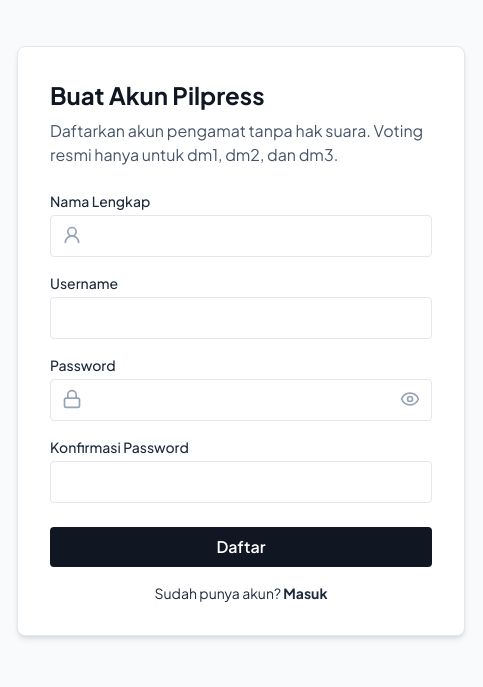
RegisterPage › menampilkan pesan error jika username sudah dipakai
Type "Pemilih Satu" into the field labelled "Nama Lengkap".
click(241, 236); type("Pemilih Satu")  # box [50,215,432,257]
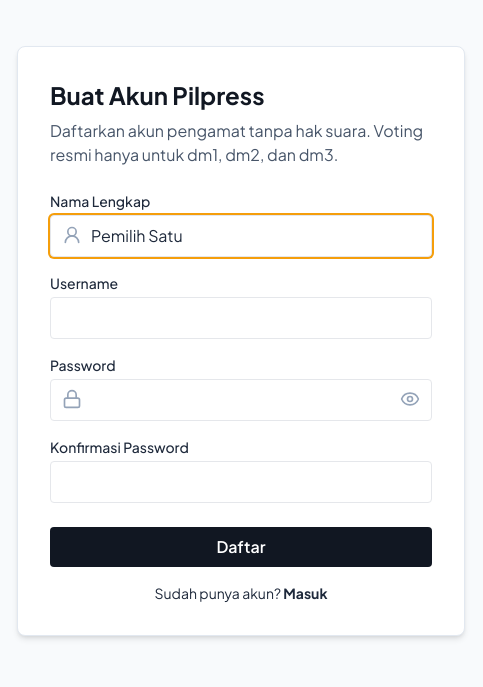
Type "dm1" into the field labelled "Username".
click(241, 318); type("dm1")  # box [50,297,432,339]
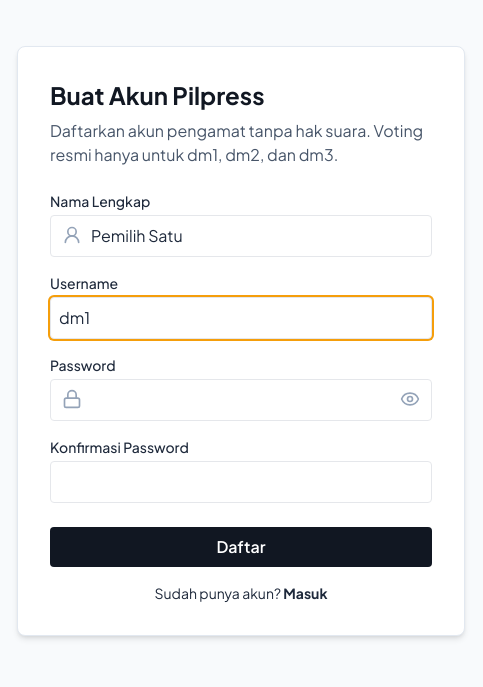
Type "rahasia123" into the password field labelled "Password".
click(241, 400); type("rahasia123")  # box [50,379,432,421]
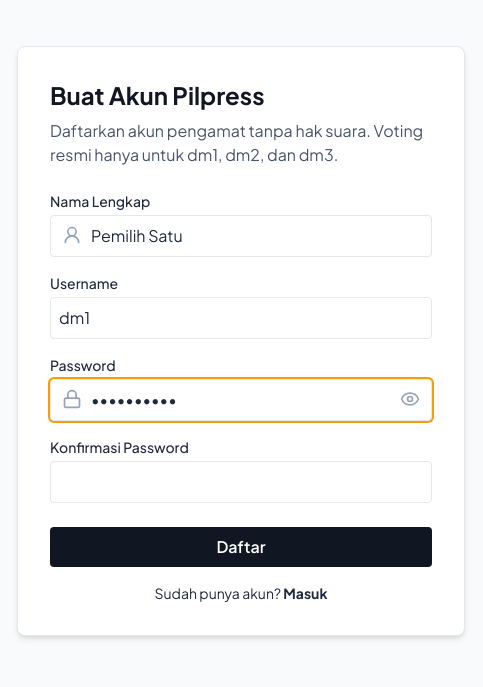
Type "rahasia123" into the password field labelled "Konfirmasi Password".
click(241, 482); type("rahasia123")  # box [50,461,432,503]
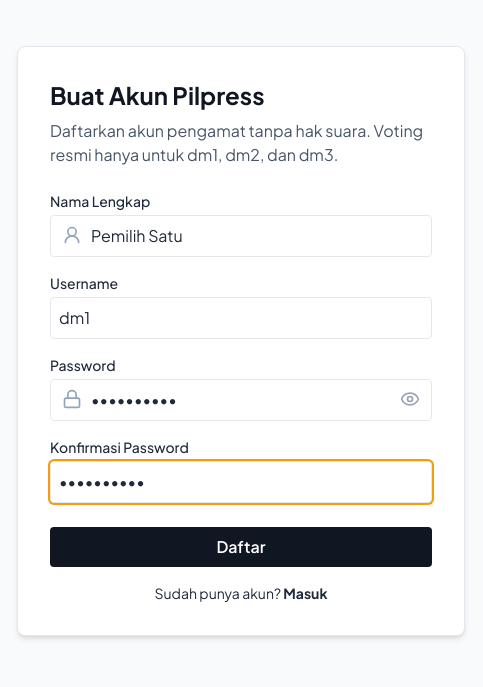
Click the button "Daftar".
click(241, 547)  # box [50,527,432,567]
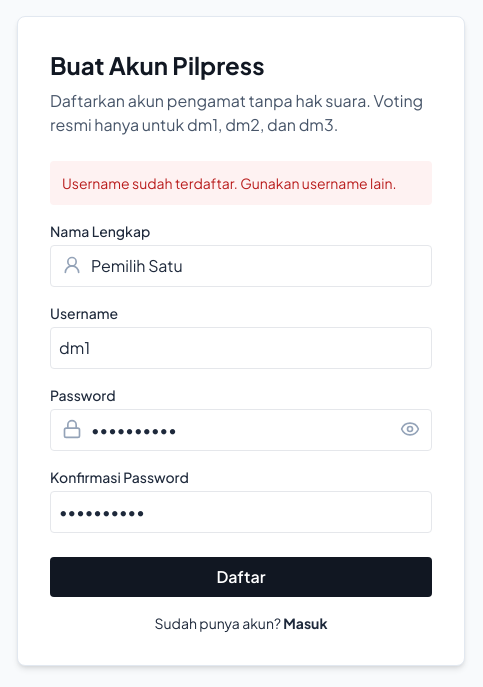
Expected: the text "Username sudah terdaftar. Gunakan username lain." is shown, [50,161,432,205]
